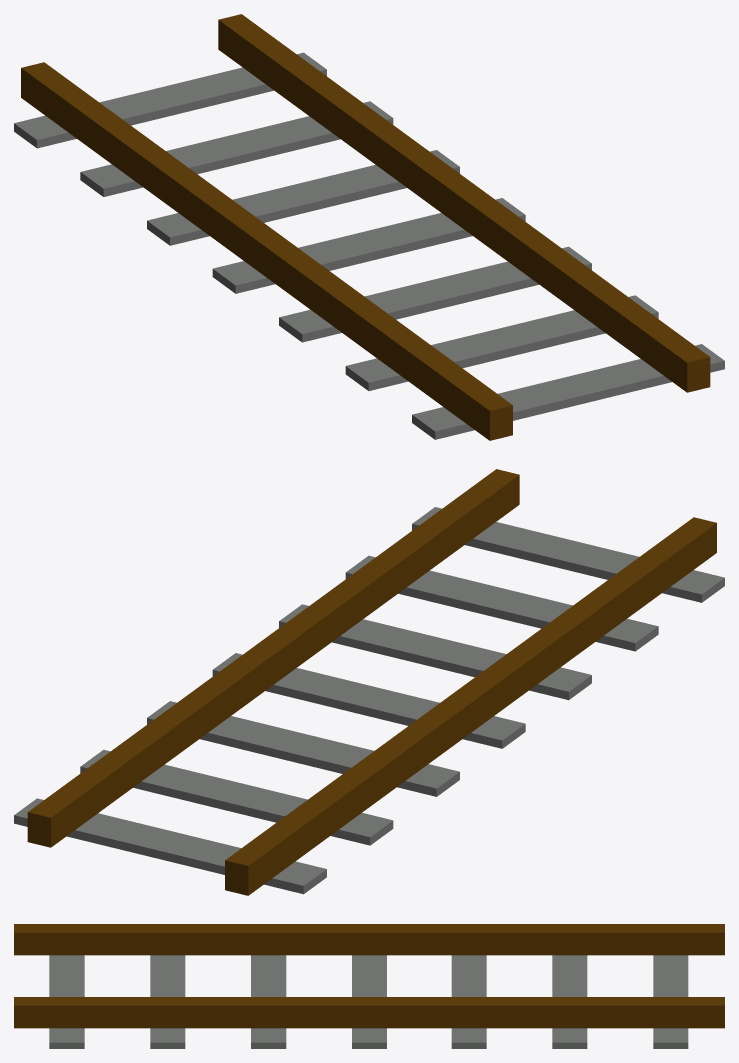
The model's file is traintracks_01.fbx.
3 renders of one model, top to bottom at view 1: azimuth 30°, elevation 25°; view 2: azimuth 150°, elevation 25°; view 3: azimuth 270°, elevation 25°, orthographic. The views are drawn at different scales.
Visible parts, largest first — view 1: train_tracks; view 2: train_tracks; view 3: train_tracks.
Part boxes in pixels (<box>): train_tracks: <box>14,14,724,440</box>; train_tracks: <box>14,469,724,895</box>; train_tracks: <box>14,924,724,1048</box>.
Size of the model in its own units: 2.23 by 0.2826 by 6.25.
